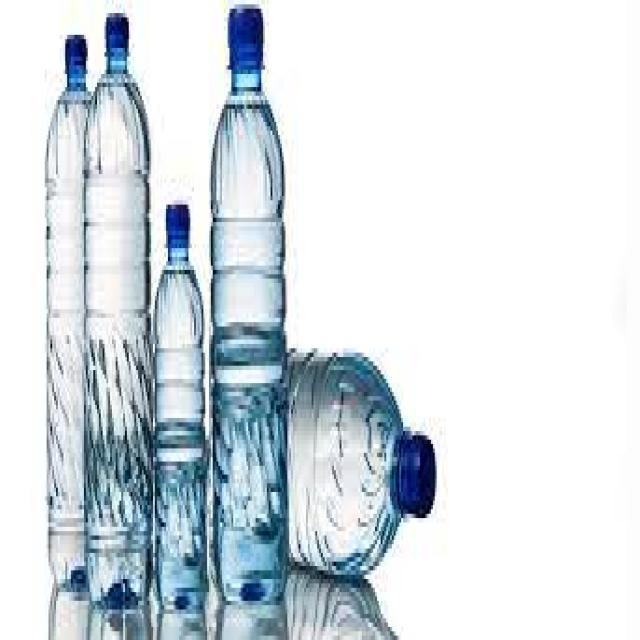Vidrio: (208, 13, 294, 602), (82, 9, 159, 598), (152, 204, 210, 606)
